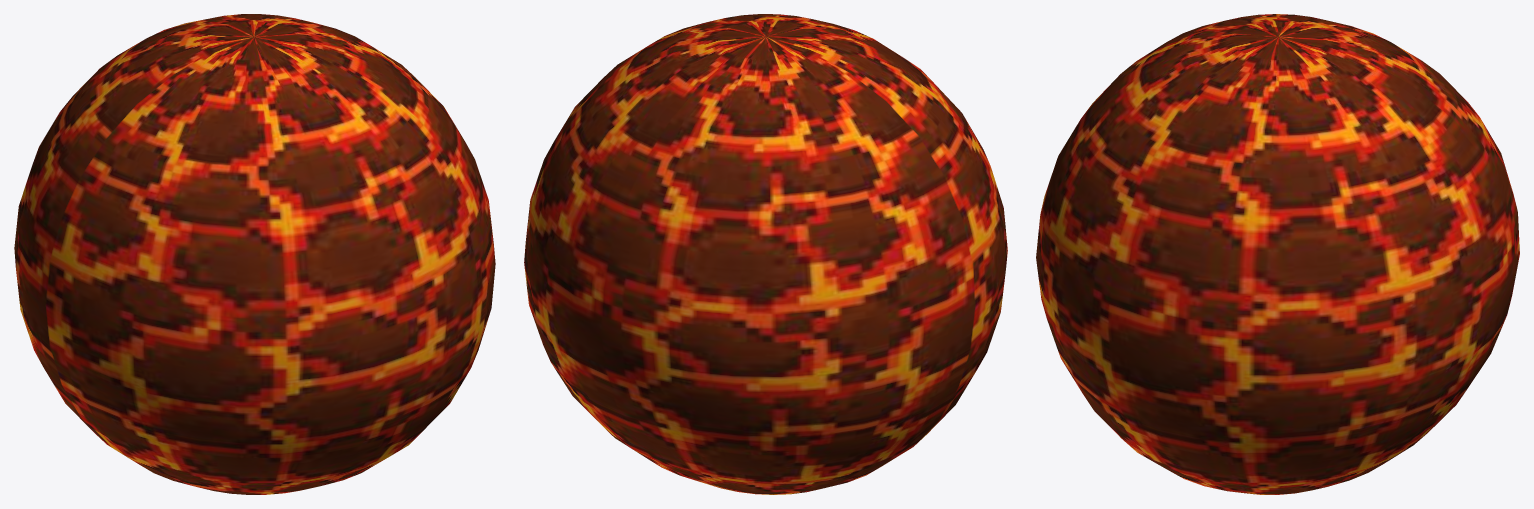
Rendered from MagmaBall.fbx.
The picture shows the model from 3 angles, left to right: view 1: azimuth 30°, elevation 25°; view 2: azimuth 150°, elevation 25°; view 3: azimuth 270°, elevation 25°; orthographic projection.
Visible parts, largest first — view 1: Sphere; view 2: Sphere; view 3: Sphere.
Part boxes in pixels (bbox=[...]): Sphere: bbox=[14, 14, 495, 494]; Sphere: bbox=[524, 14, 1007, 494]; Sphere: bbox=[1036, 14, 1519, 494].
Bounding box in the file's own units: 200 × 200 × 202.
